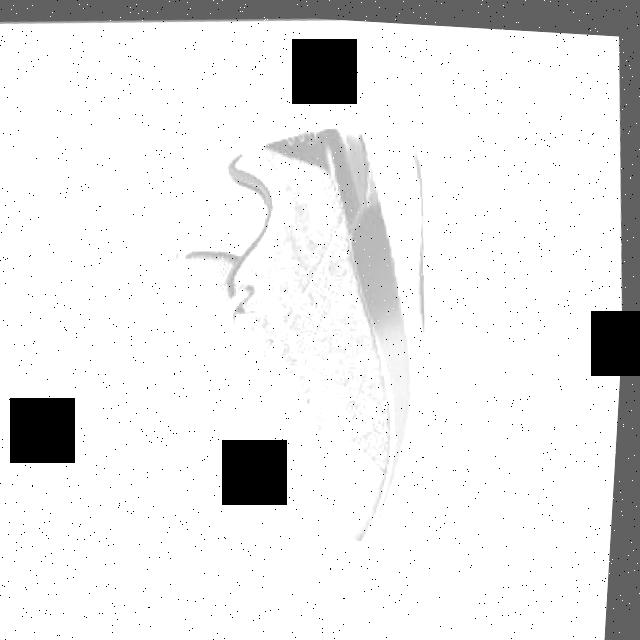shoe: (156, 111, 450, 558), (179, 115, 432, 547)
